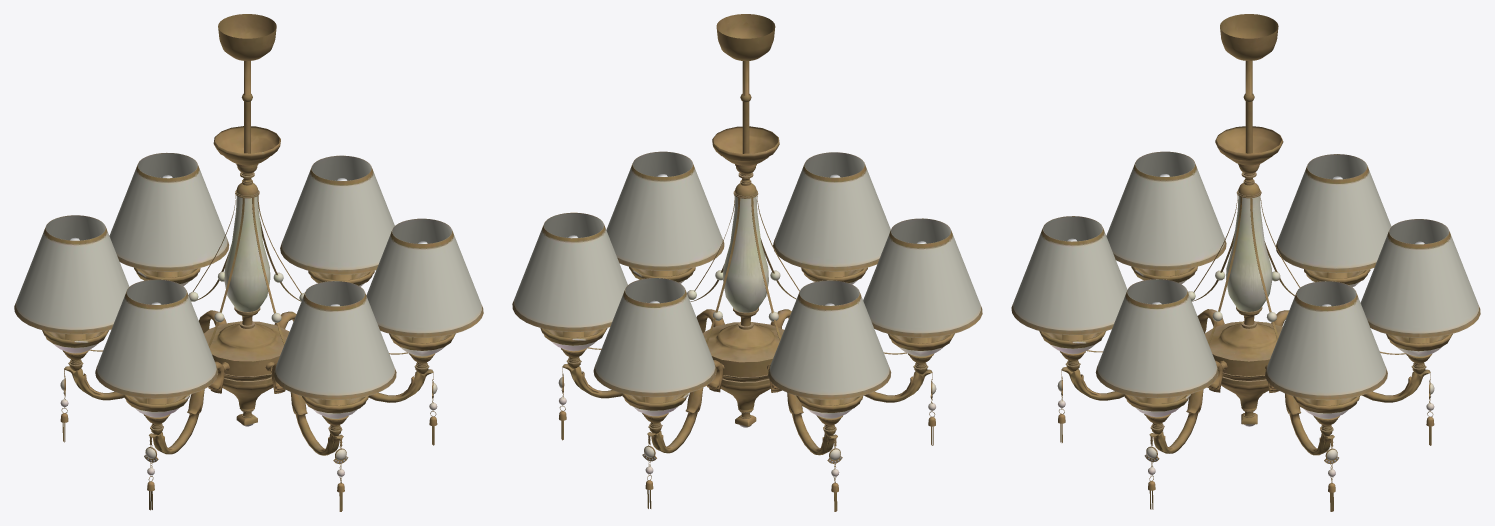
3 views of the same model, side by side, from view 1: azimuth 30°, elevation 25°; view 2: azimuth 150°, elevation 25°; view 3: azimuth 270°, elevation 25° (orthographic).
Visible parts, largest first — view 1: Chandelier_01; view 2: Chandelier_01; view 3: Chandelier_01.
Boxes of the visible parts, box(x1,y1,x2,y2) form: Chandelier_01: box(14, 14, 483, 511); Chandelier_01: box(512, 14, 982, 511); Chandelier_01: box(1011, 14, 1480, 511).
Bounding box in the file's own units: 0.7465 × 0.7983 × 0.8155.
2 materials, 1 textured.
